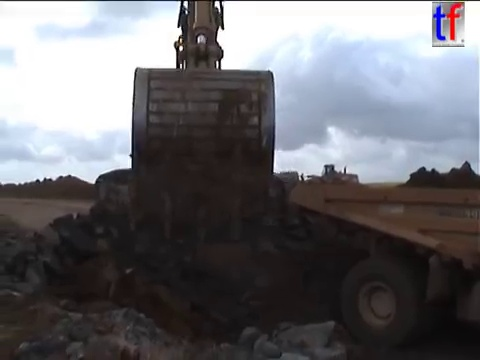truck: (91, 1, 297, 244), (285, 180, 480, 353)
wheel loader: (294, 163, 361, 194)
